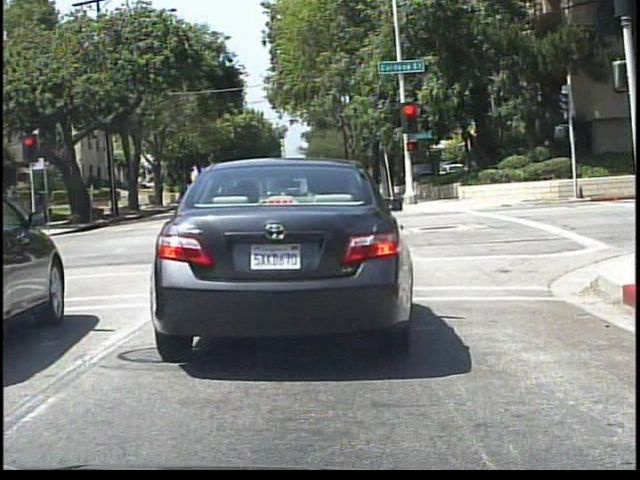person: (29, 184, 50, 230)
